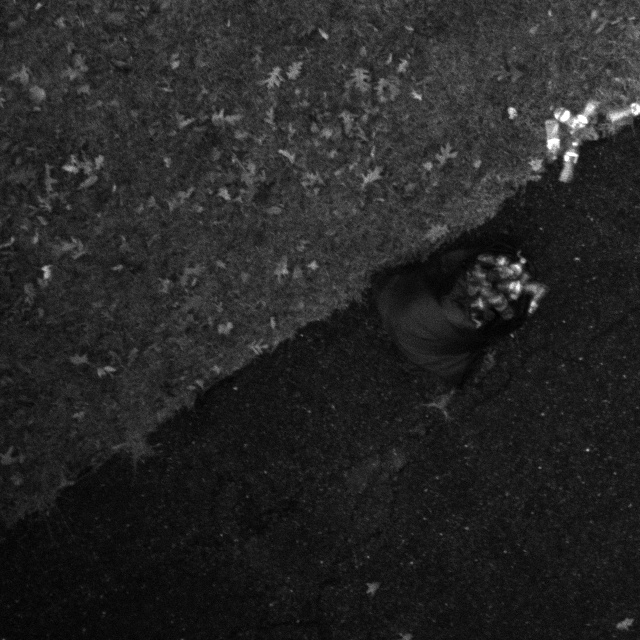bottle: (568, 98, 601, 136), (559, 137, 585, 185), (543, 115, 568, 163), (498, 277, 544, 303), (499, 255, 529, 289), (527, 278, 550, 317)
